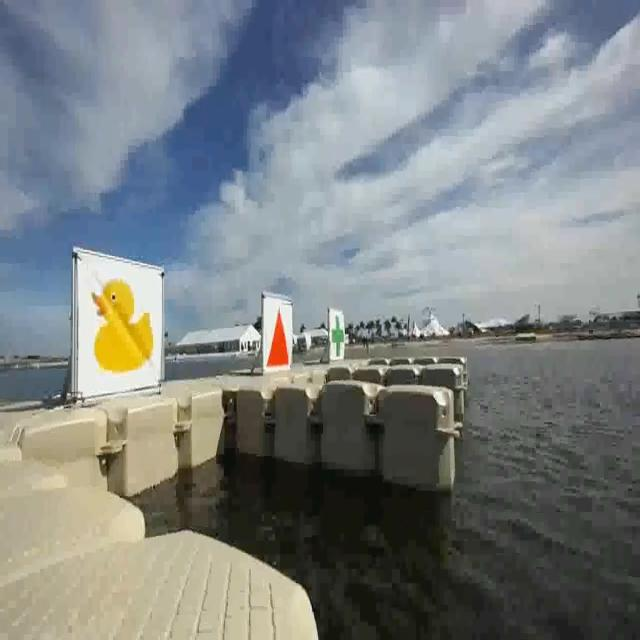blue-cross: (329, 305, 348, 372)
red-dot: (262, 296, 290, 375)
yellow-duck: (90, 276, 154, 373)
